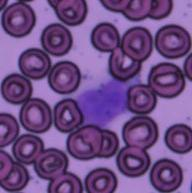M: (76, 76, 128, 126)
